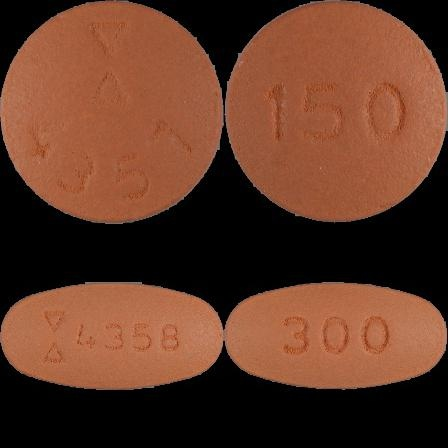0172-4357: (0, 0, 224, 224)
